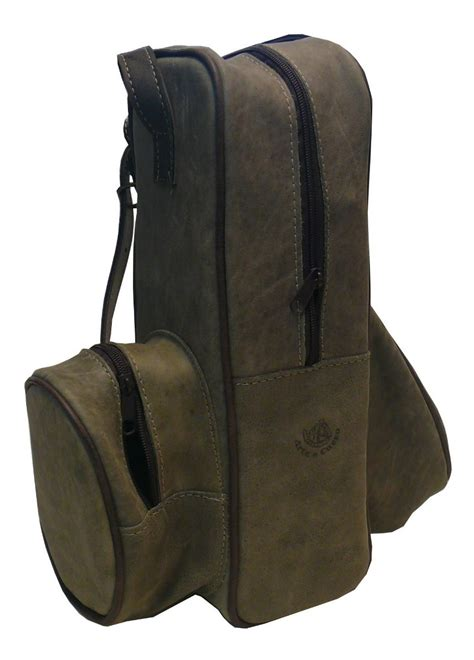cuero: (21, 34, 452, 632)
